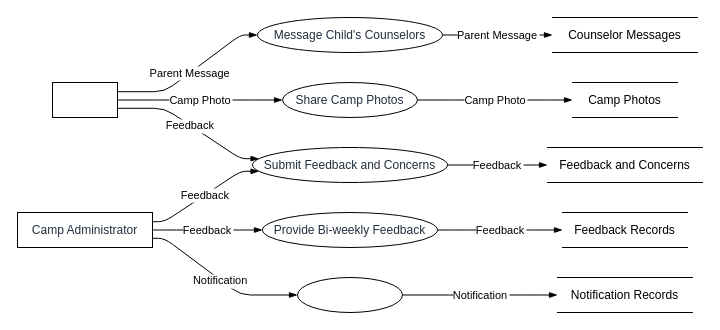
The diagram is 720 pixels wide and 330 high, and some of its shapes have lost their labels. The shapes that lost their labels are listed below. From the top down, each one's centre as x and y in pixels, then its label:
(x=85, y=100): Parent
(x=349, y=294): Notify Parents
